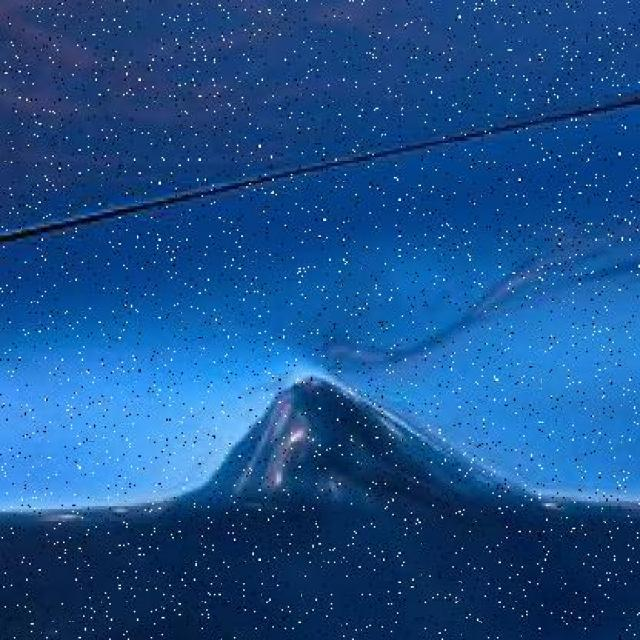car damage: (182, 345, 574, 549)
